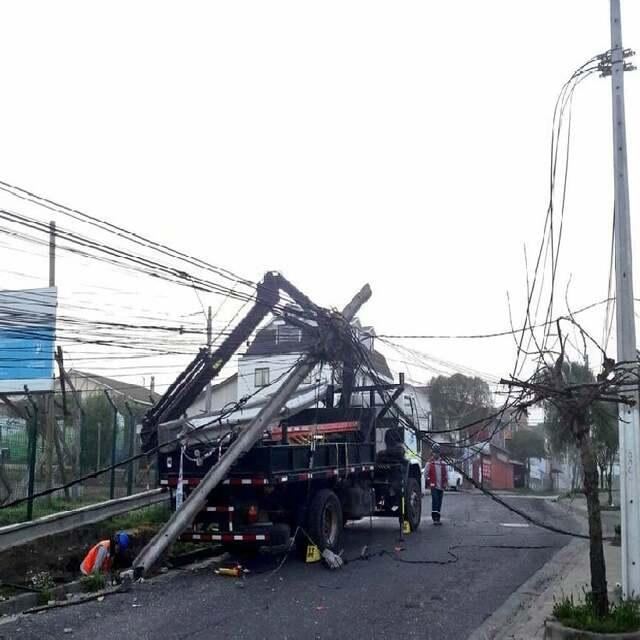Inclined Pole: (125, 280, 387, 570)
